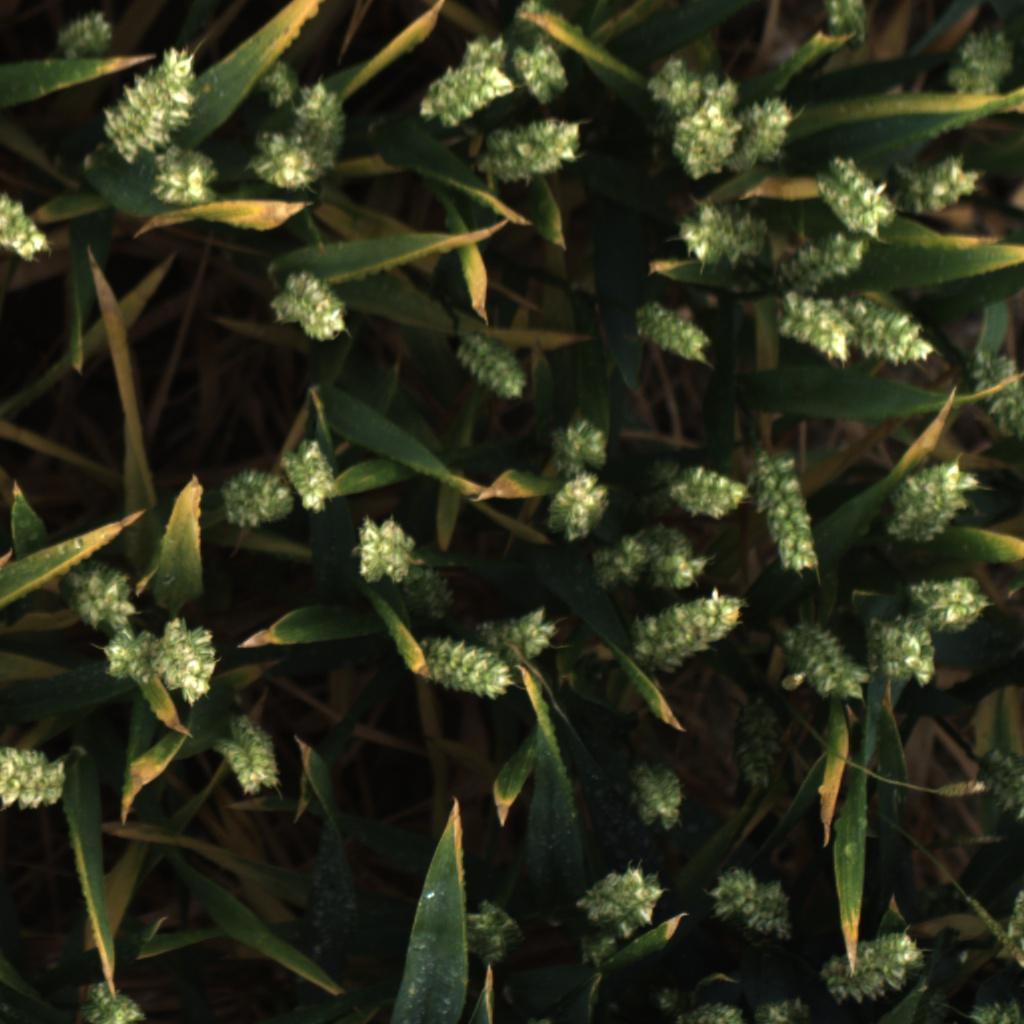0-0: (100, 44, 207, 162), (626, 588, 747, 682), (753, 453, 826, 576), (883, 452, 978, 546), (824, 925, 935, 1002), (778, 616, 872, 703), (638, 48, 752, 118), (473, 120, 592, 187), (264, 267, 356, 352), (709, 861, 798, 948), (813, 149, 898, 240), (854, 296, 942, 380), (569, 861, 663, 939), (413, 631, 511, 704), (285, 72, 361, 166), (418, 58, 518, 129), (671, 198, 770, 269), (860, 610, 947, 690), (580, 527, 674, 600), (451, 324, 533, 405), (722, 694, 789, 793), (662, 95, 739, 179), (772, 295, 857, 371), (348, 509, 430, 587), (236, 125, 322, 199), (629, 297, 715, 370), (152, 617, 222, 705), (776, 233, 866, 301), (661, 457, 752, 524), (728, 94, 801, 176), (215, 458, 294, 533), (537, 475, 613, 551), (282, 434, 351, 517), (623, 756, 696, 834), (943, 20, 1015, 99), (903, 148, 980, 220), (635, 526, 716, 593), (473, 597, 556, 662), (971, 350, 1024, 451), (911, 569, 996, 630), (146, 143, 219, 214), (0, 743, 74, 813), (508, 37, 578, 109), (961, 892, 1024, 972), (458, 893, 525, 967), (221, 715, 279, 799), (541, 411, 616, 474), (71, 558, 139, 626), (0, 186, 57, 266), (395, 563, 459, 629), (48, 6, 121, 61), (97, 621, 156, 688), (984, 748, 1024, 837), (78, 980, 150, 1024), (505, 0, 558, 57), (823, 0, 879, 53), (252, 57, 304, 111), (454, 32, 517, 76), (577, 924, 630, 973), (672, 1000, 748, 1024), (751, 996, 814, 1024), (1005, 887, 1024, 961), (653, 985, 682, 1014)
